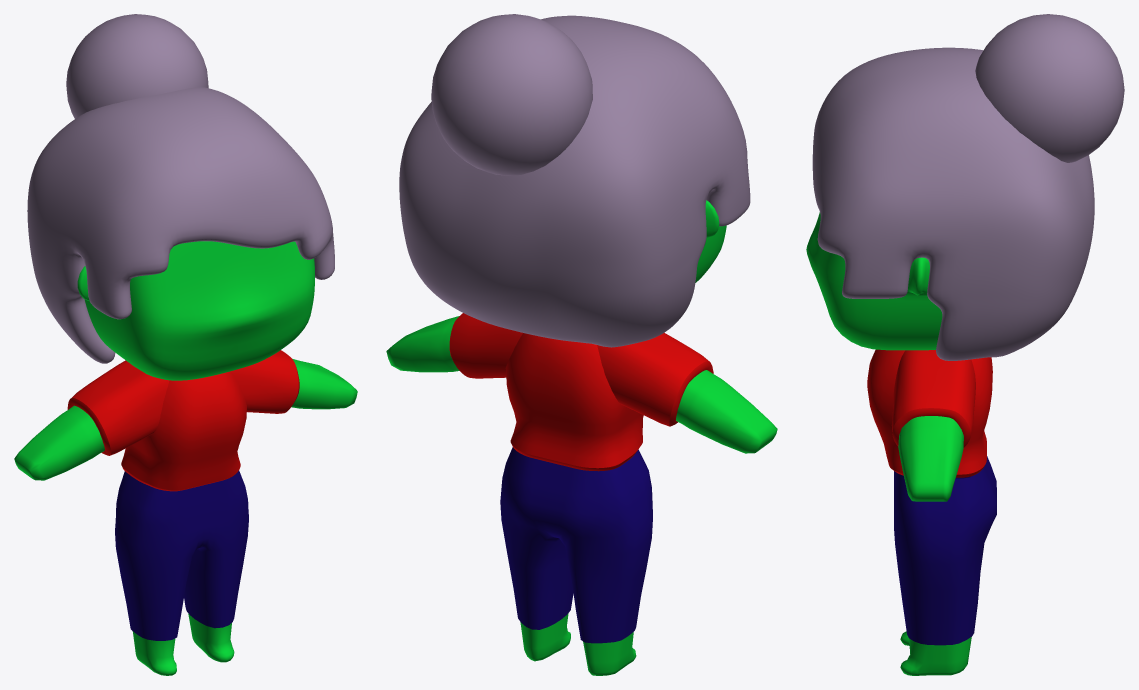
File: Parent.fbx
3 views of the same model, side by side, from view 1: azimuth 30°, elevation 25°; view 2: azimuth 150°, elevation 25°; view 3: azimuth 270°, elevation 25° (orthographic). The views are drawn at different scales.
Parts seen in each view (by area): view 1: Cheveux, Tete, Tshirt, Pantalon, Corps; view 2: Cheveux, Pantalon, Tshirt, Corps, Tete; view 3: Cheveux, Pantalon, Tshirt, Tete, Corps.
Boxes of the visible parts, box(x1,y1,x2,y2) form: Cheveux: box(27, 14, 334, 363); Tete: box(77, 241, 314, 380); Tshirt: box(67, 350, 299, 491); Pantalon: box(115, 470, 248, 640); Corps: box(14, 358, 357, 675); Cheveux: box(399, 14, 750, 347); Pantalon: box(500, 447, 652, 643); Tshirt: box(449, 313, 713, 471); Corps: box(386, 316, 777, 675); Tete: box(695, 200, 726, 282); Cheveux: box(812, 14, 1124, 360); Pantalon: box(894, 456, 996, 645); Tshirt: box(867, 349, 992, 477); Tete: box(806, 212, 942, 350); Corps: box(898, 416, 971, 675).
Size of the model in its own units: 67.76 by 118 by 53.07.
